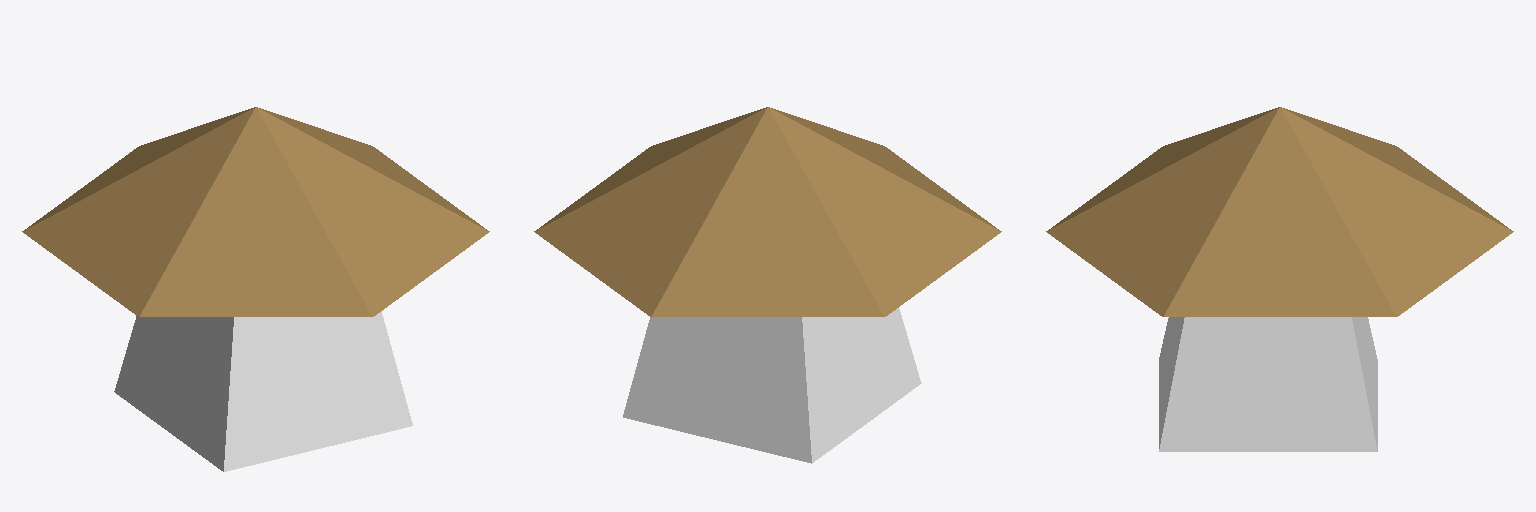
The model's file is Mushroom_Brown_01.obj.
The picture shows the model from 3 angles: view 1: azimuth 30°, elevation 25°; view 2: azimuth 150°, elevation 25°; view 3: azimuth 270°, elevation 25°; orthographic projection.
Visible parts, largest first — view 1: Mesh1_Mushroom_Brown_Model; view 2: Mesh1_Mushroom_Brown_Model; view 3: Mesh1_Mushroom_Brown_Model.
Part boxes in pixels (x1,y1,x2,y2): Mesh1_Mushroom_Brown_Model: (22,107,489,471); Mesh1_Mushroom_Brown_Model: (534,107,1001,463); Mesh1_Mushroom_Brown_Model: (1046,107,1513,451).
Size of the model in its own units: 0.4349 by 0.3535 by 0.5022.